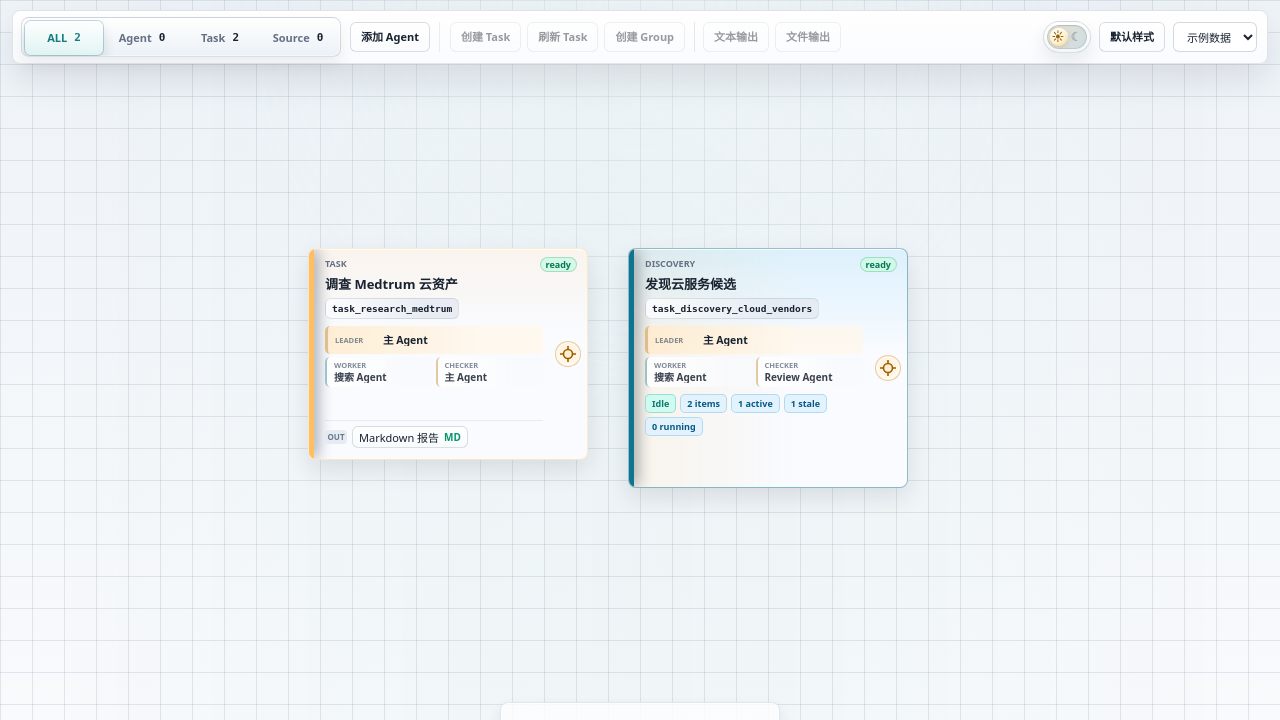
it: App › canvas connections › discovers an auto-started downstream Task run after the upstream run finishes
Select "实时 API" in the dropdown at point(1215, 37), box [1173,22,1257,52]
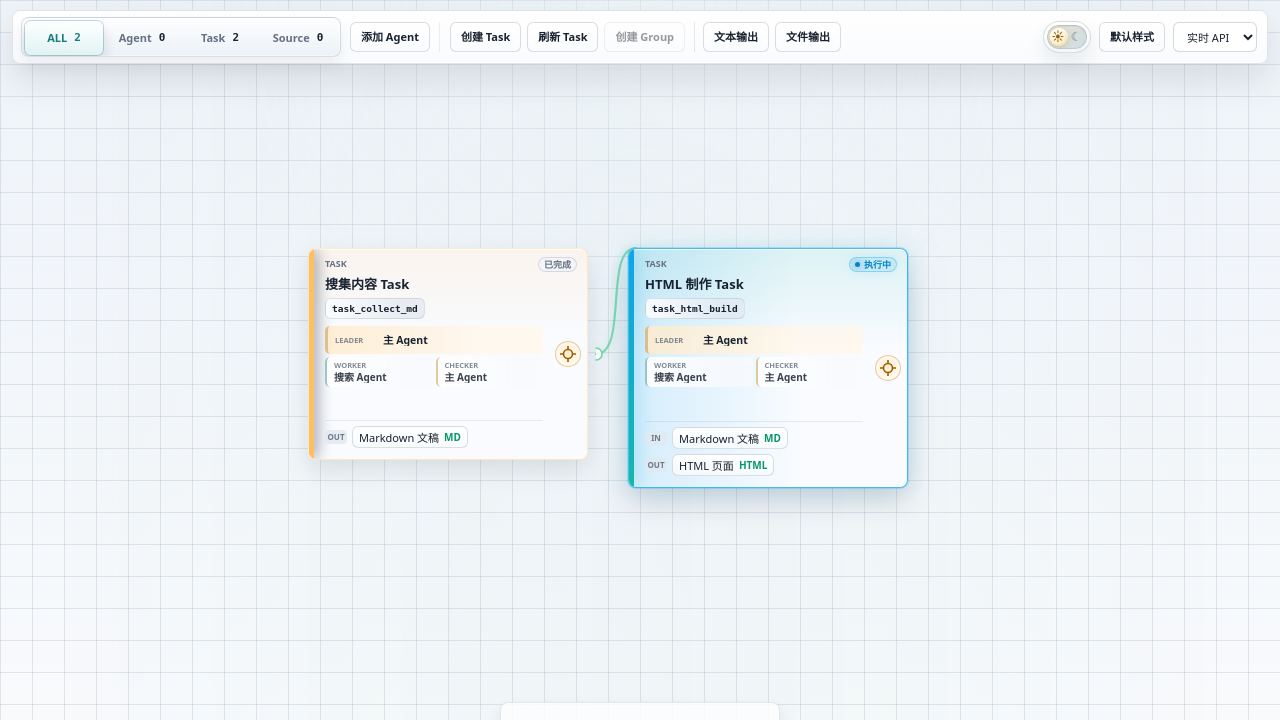
Expected: the element with class "execution-map-nodes" is shown, [308,248,908,488]
Expected: the button with aria-label "搜集内容 Task" is shown, [308,248,588,460]
Click the button with aria-label "HTML 制作 Task" at point(768, 368), box [628,248,908,488]
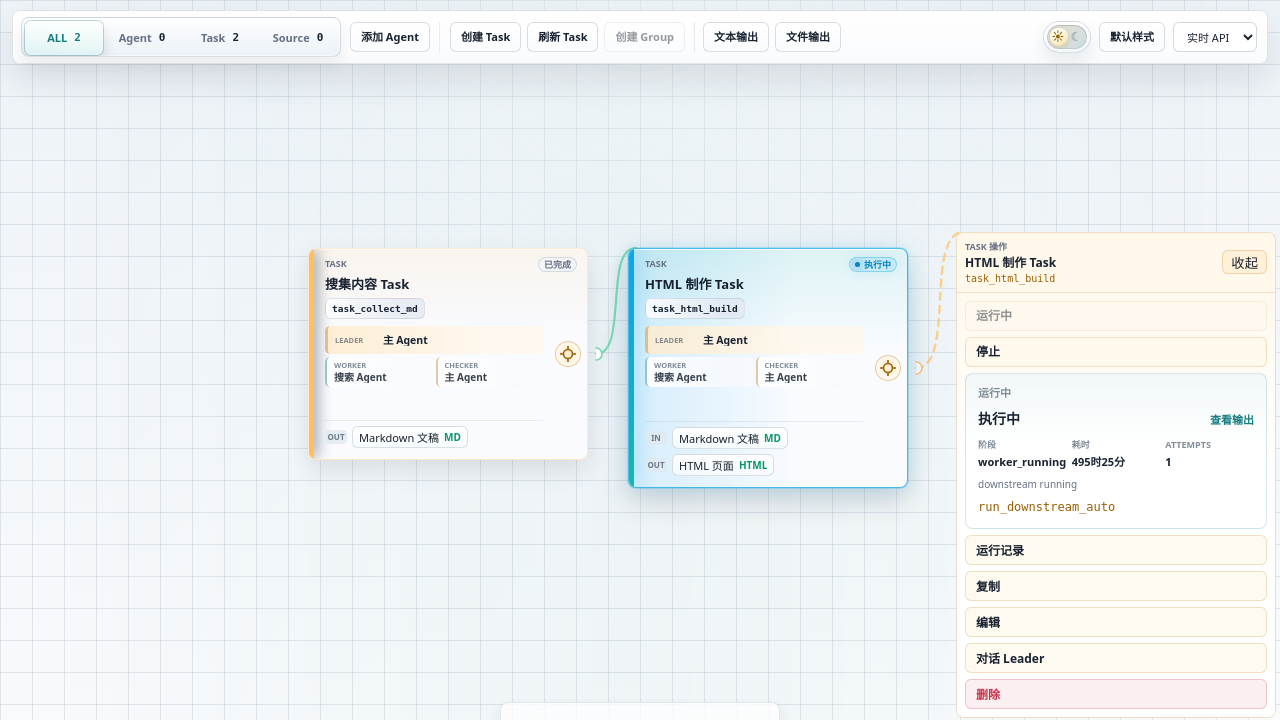
Expected: the element with class "task-action-branch" is shown, [956,232,1276,718]
Expected: the text "run_downstream_auto" is shown, [978,500,1115,514]
Expected: the text "downstream running" is shown, [978,477,1077,491]
